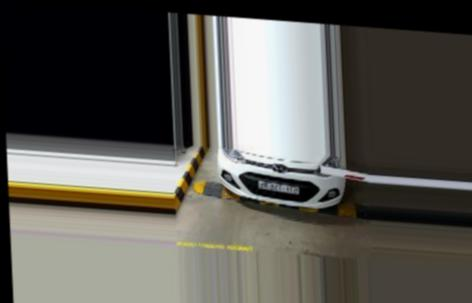License_Plate: (257, 179, 302, 194)
